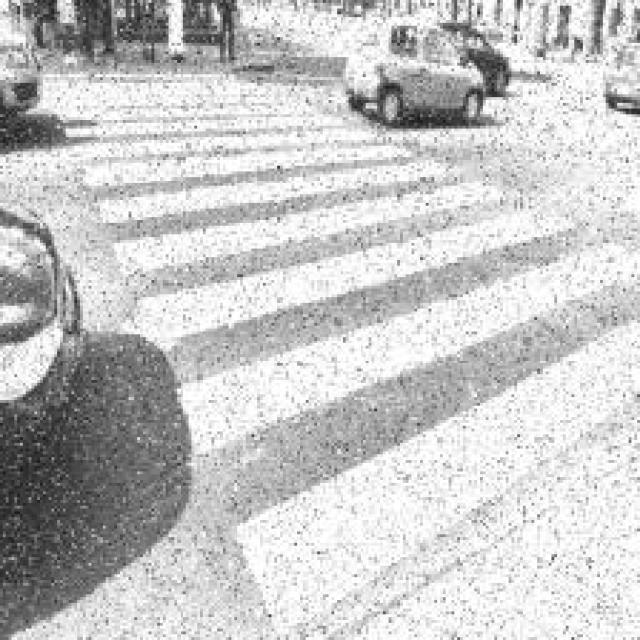crosswalk: (50, 67, 619, 640)
